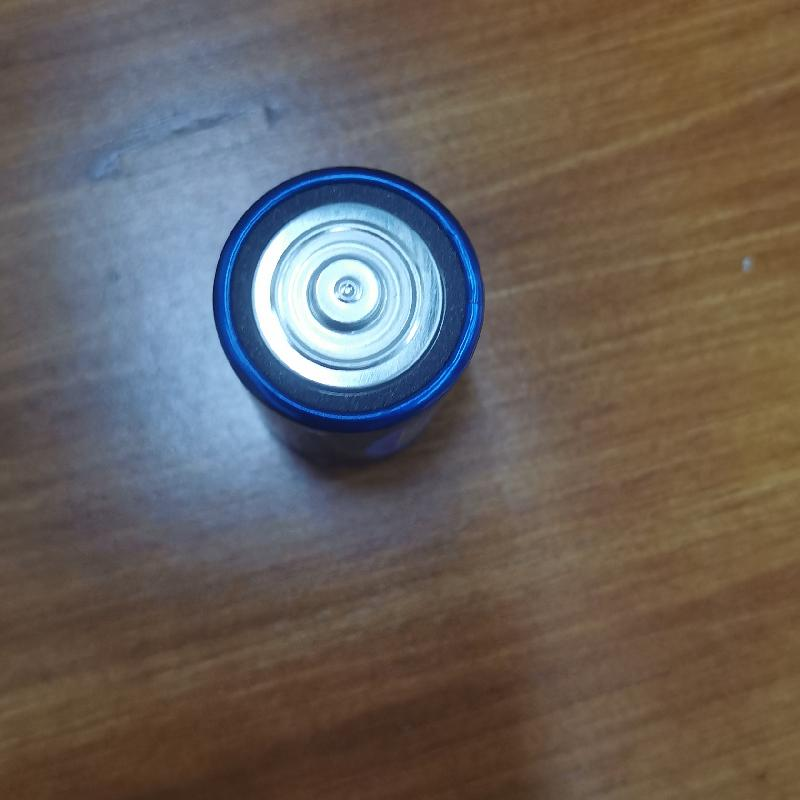battery: (197, 150, 500, 461)
